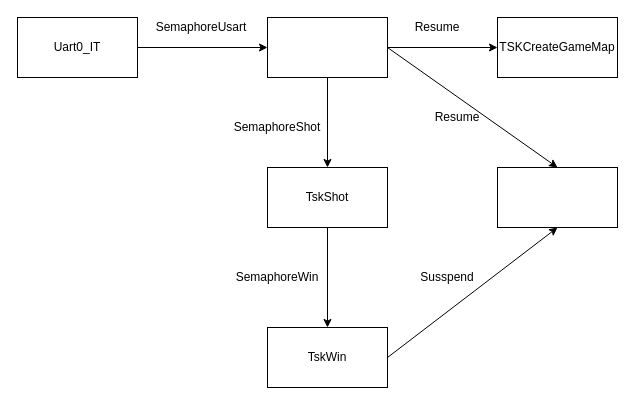
Some shapes in this 635 by 405 pixel diagram are drawn without their labels. The box of each missing label's shape, as (x1, y1, x2, y2) in pixels:
TSKShowMap: (496, 166, 618, 228)
TskUsartMove: (266, 16, 388, 78)
